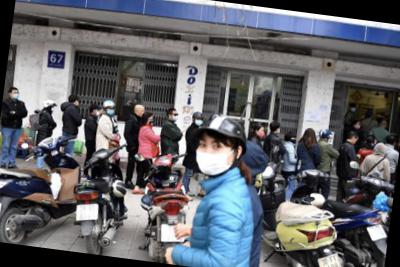with_mask: (192, 136, 237, 182), (195, 116, 204, 128), (12, 91, 21, 101), (148, 116, 156, 127), (171, 112, 179, 123), (107, 107, 116, 116), (259, 128, 266, 138), (355, 123, 363, 131), (94, 108, 101, 117), (350, 106, 358, 113), (292, 136, 298, 145), (277, 127, 282, 135), (51, 105, 55, 114), (374, 142, 378, 149)
without_mask: (137, 107, 147, 118), (352, 137, 360, 147)
